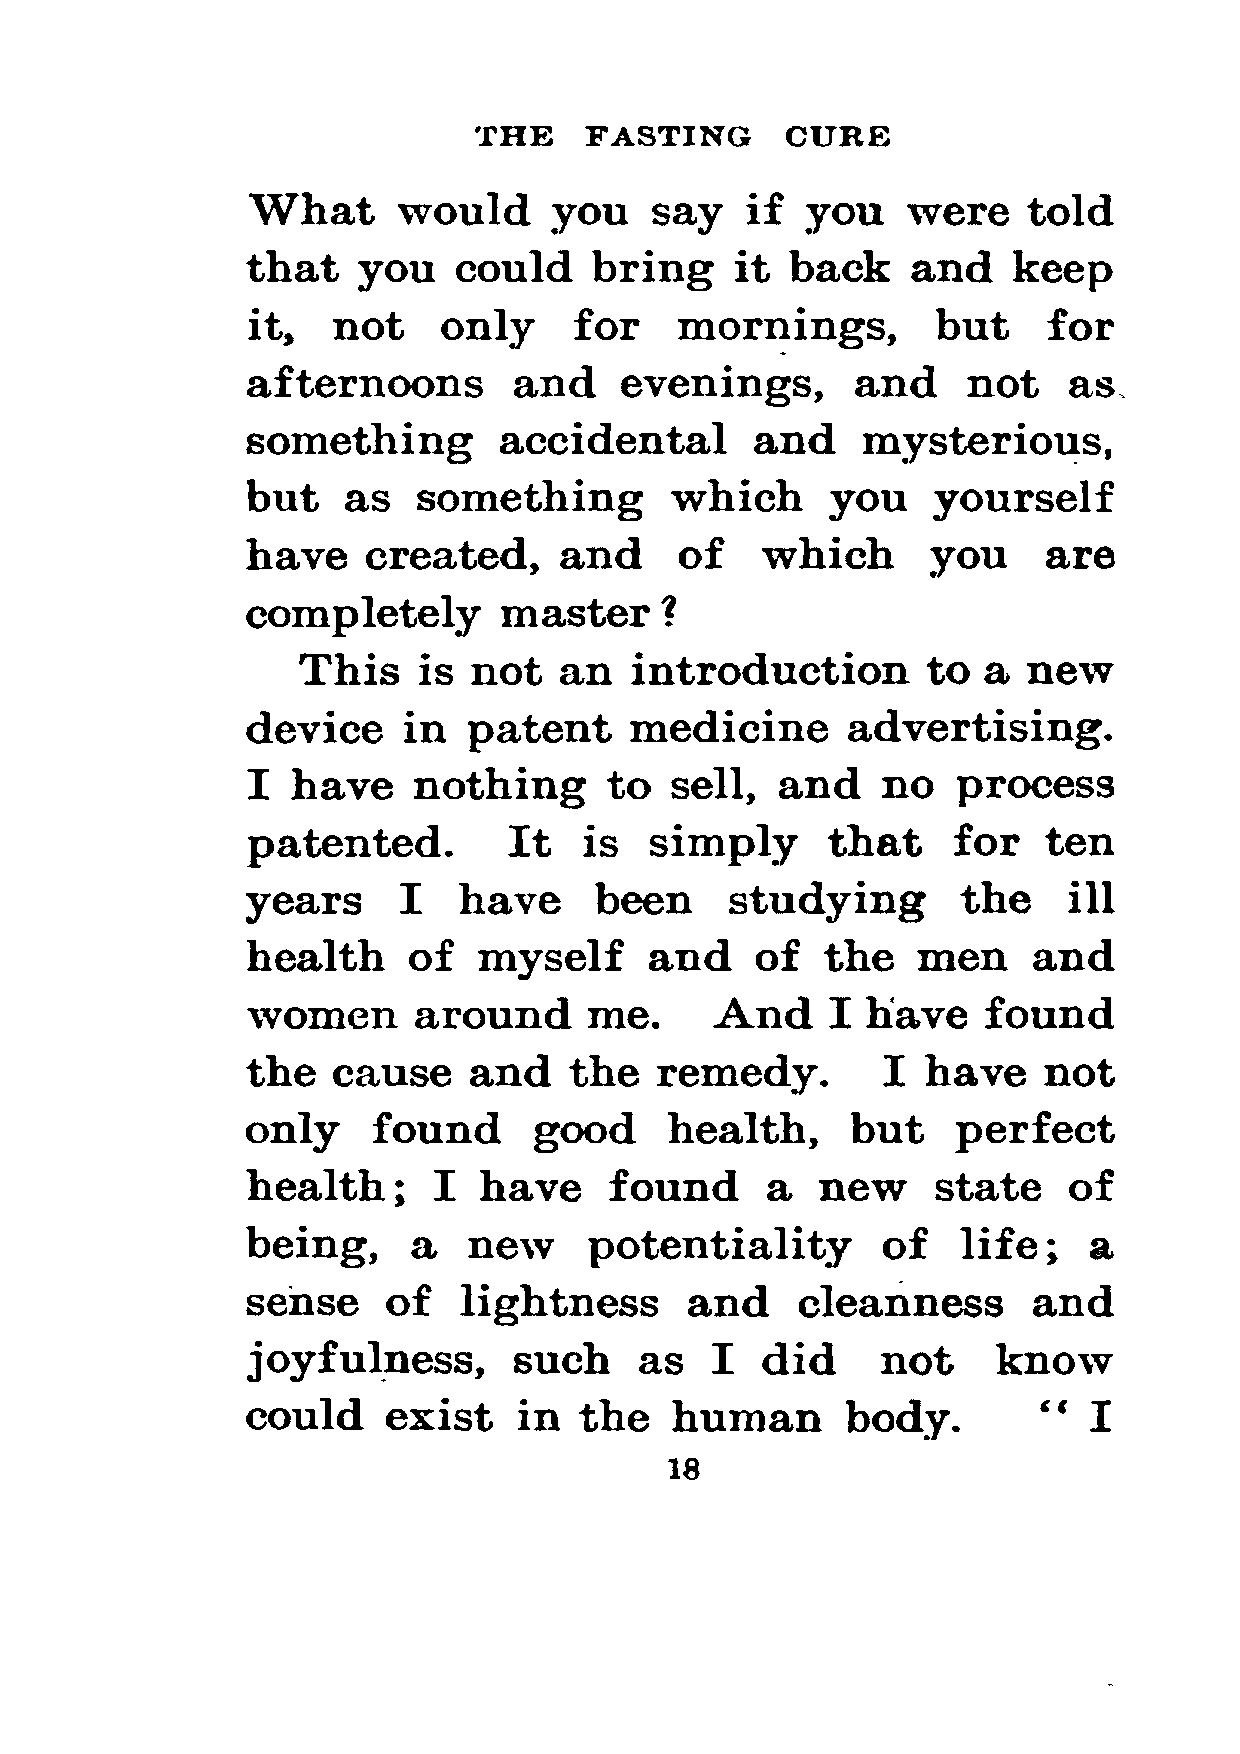chapter: (472, 122, 892, 150)
content: (243, 191, 1121, 1443)
content_pagenumber: (660, 1453, 705, 1484)
